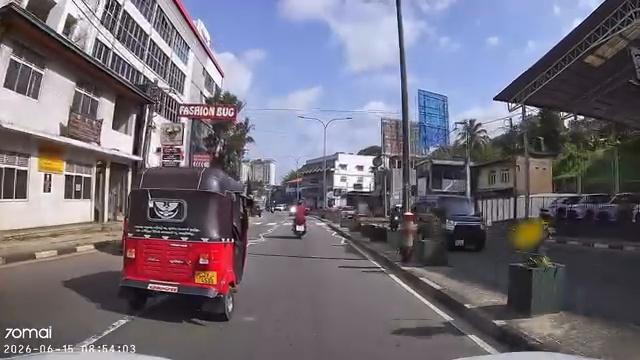illegal overtaking: (116, 151, 258, 318)
